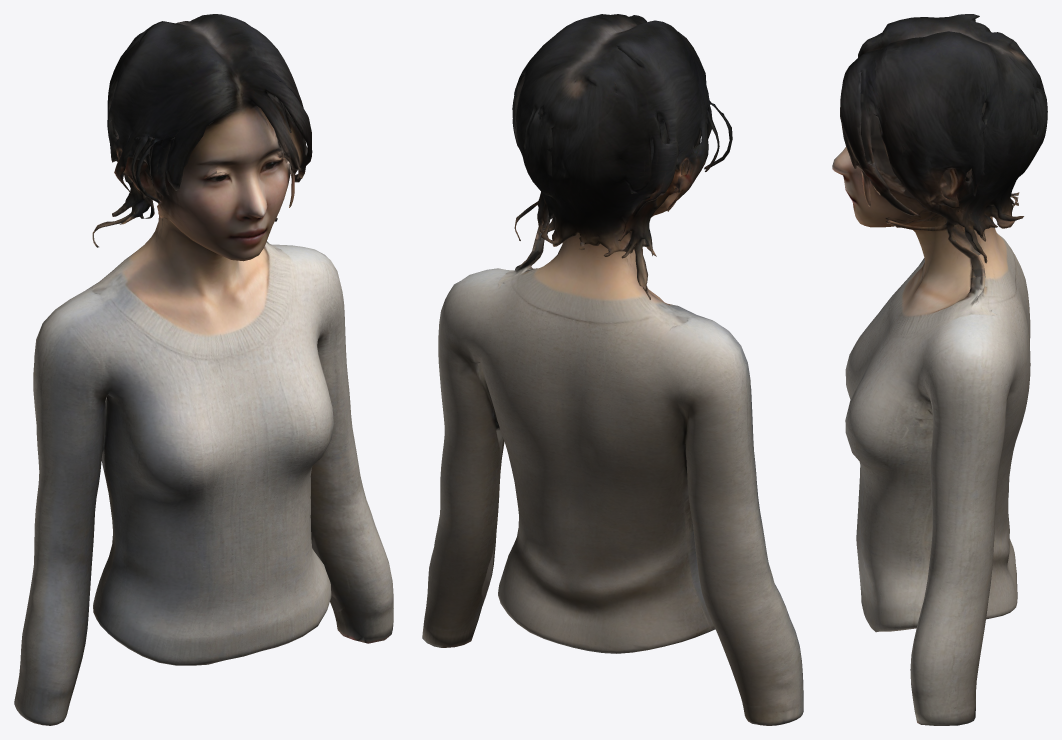
File: modelwoman2.glb
3 views of the same model, side by side, from view 1: azimuth 30°, elevation 25°; view 2: azimuth 150°, elevation 25°; view 3: azimuth 270°, elevation 25° (orthographic). The views are drawn at different scales.
Bounding box in the file's own units: 1.18 × 2 × 0.6248.
Materials: 1 (1 with a texture image).
